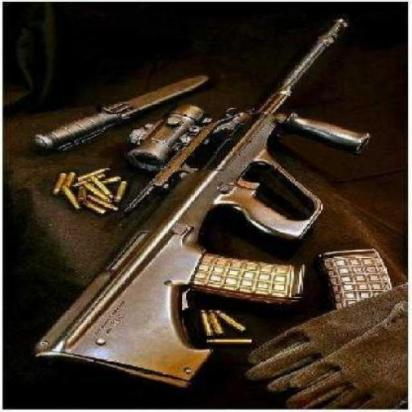Gun: (58, 50, 380, 386)
